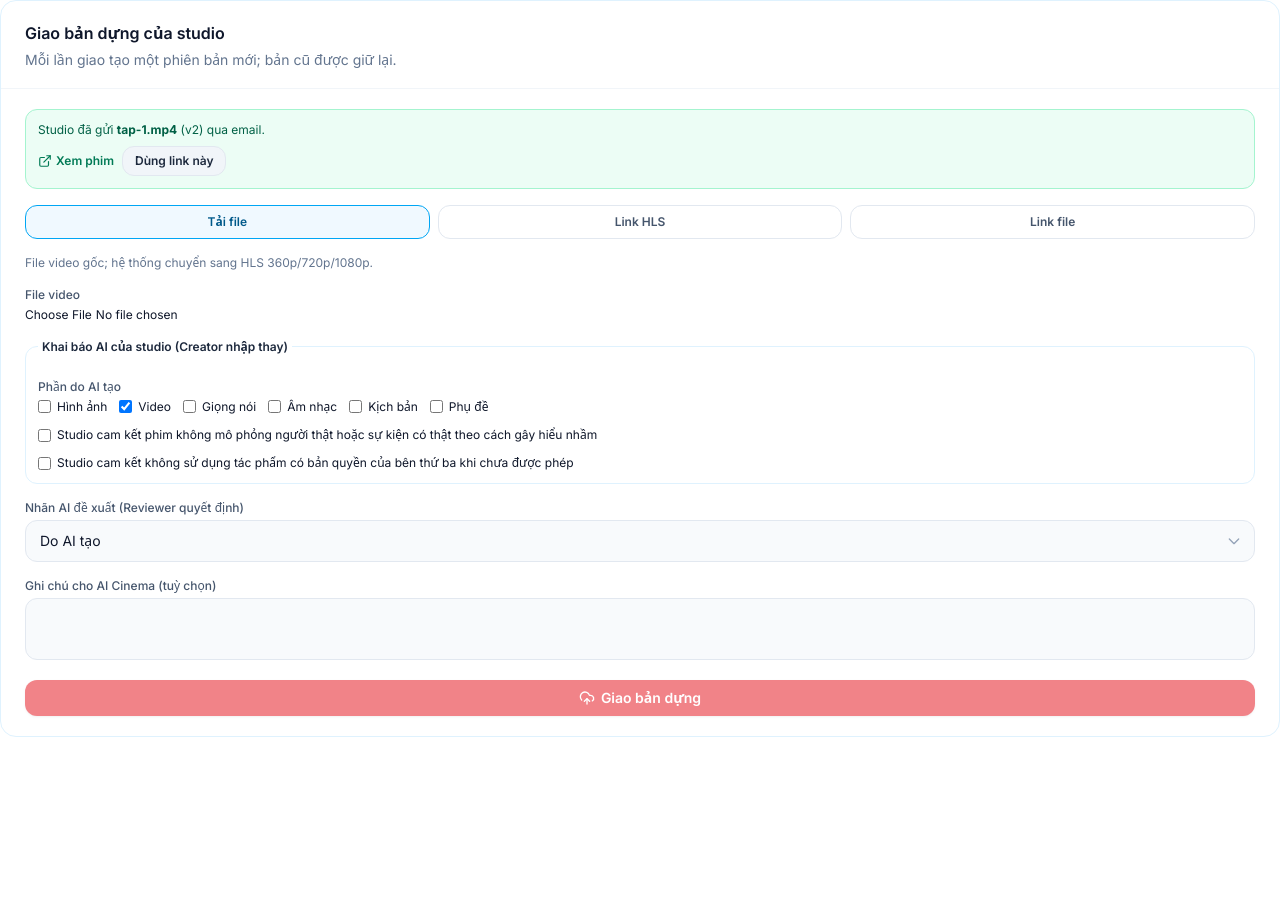
Test: DeliverMediaPanel with the film the studio mailed › links to the film and fills it in as the file link to import
What coordinates should you click on to do the following:
click the button "Dùng link này"
I would click on:
 (174, 161)
Its box is [122,146,226,176].
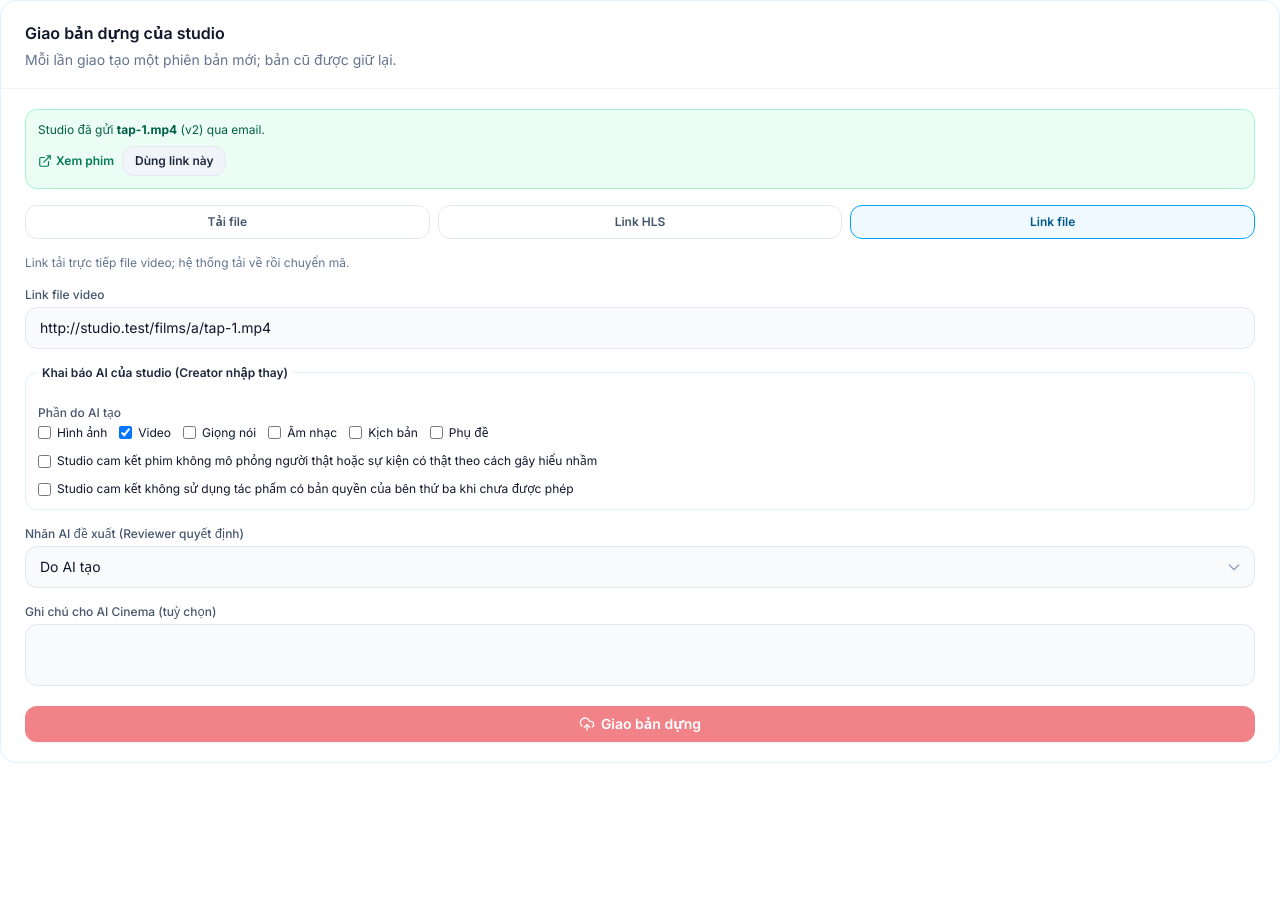
expect the field with placeholder "https://…" holds "http://studio.test/films/a/tap-1.mp4": met, box [25,307,1255,349]
